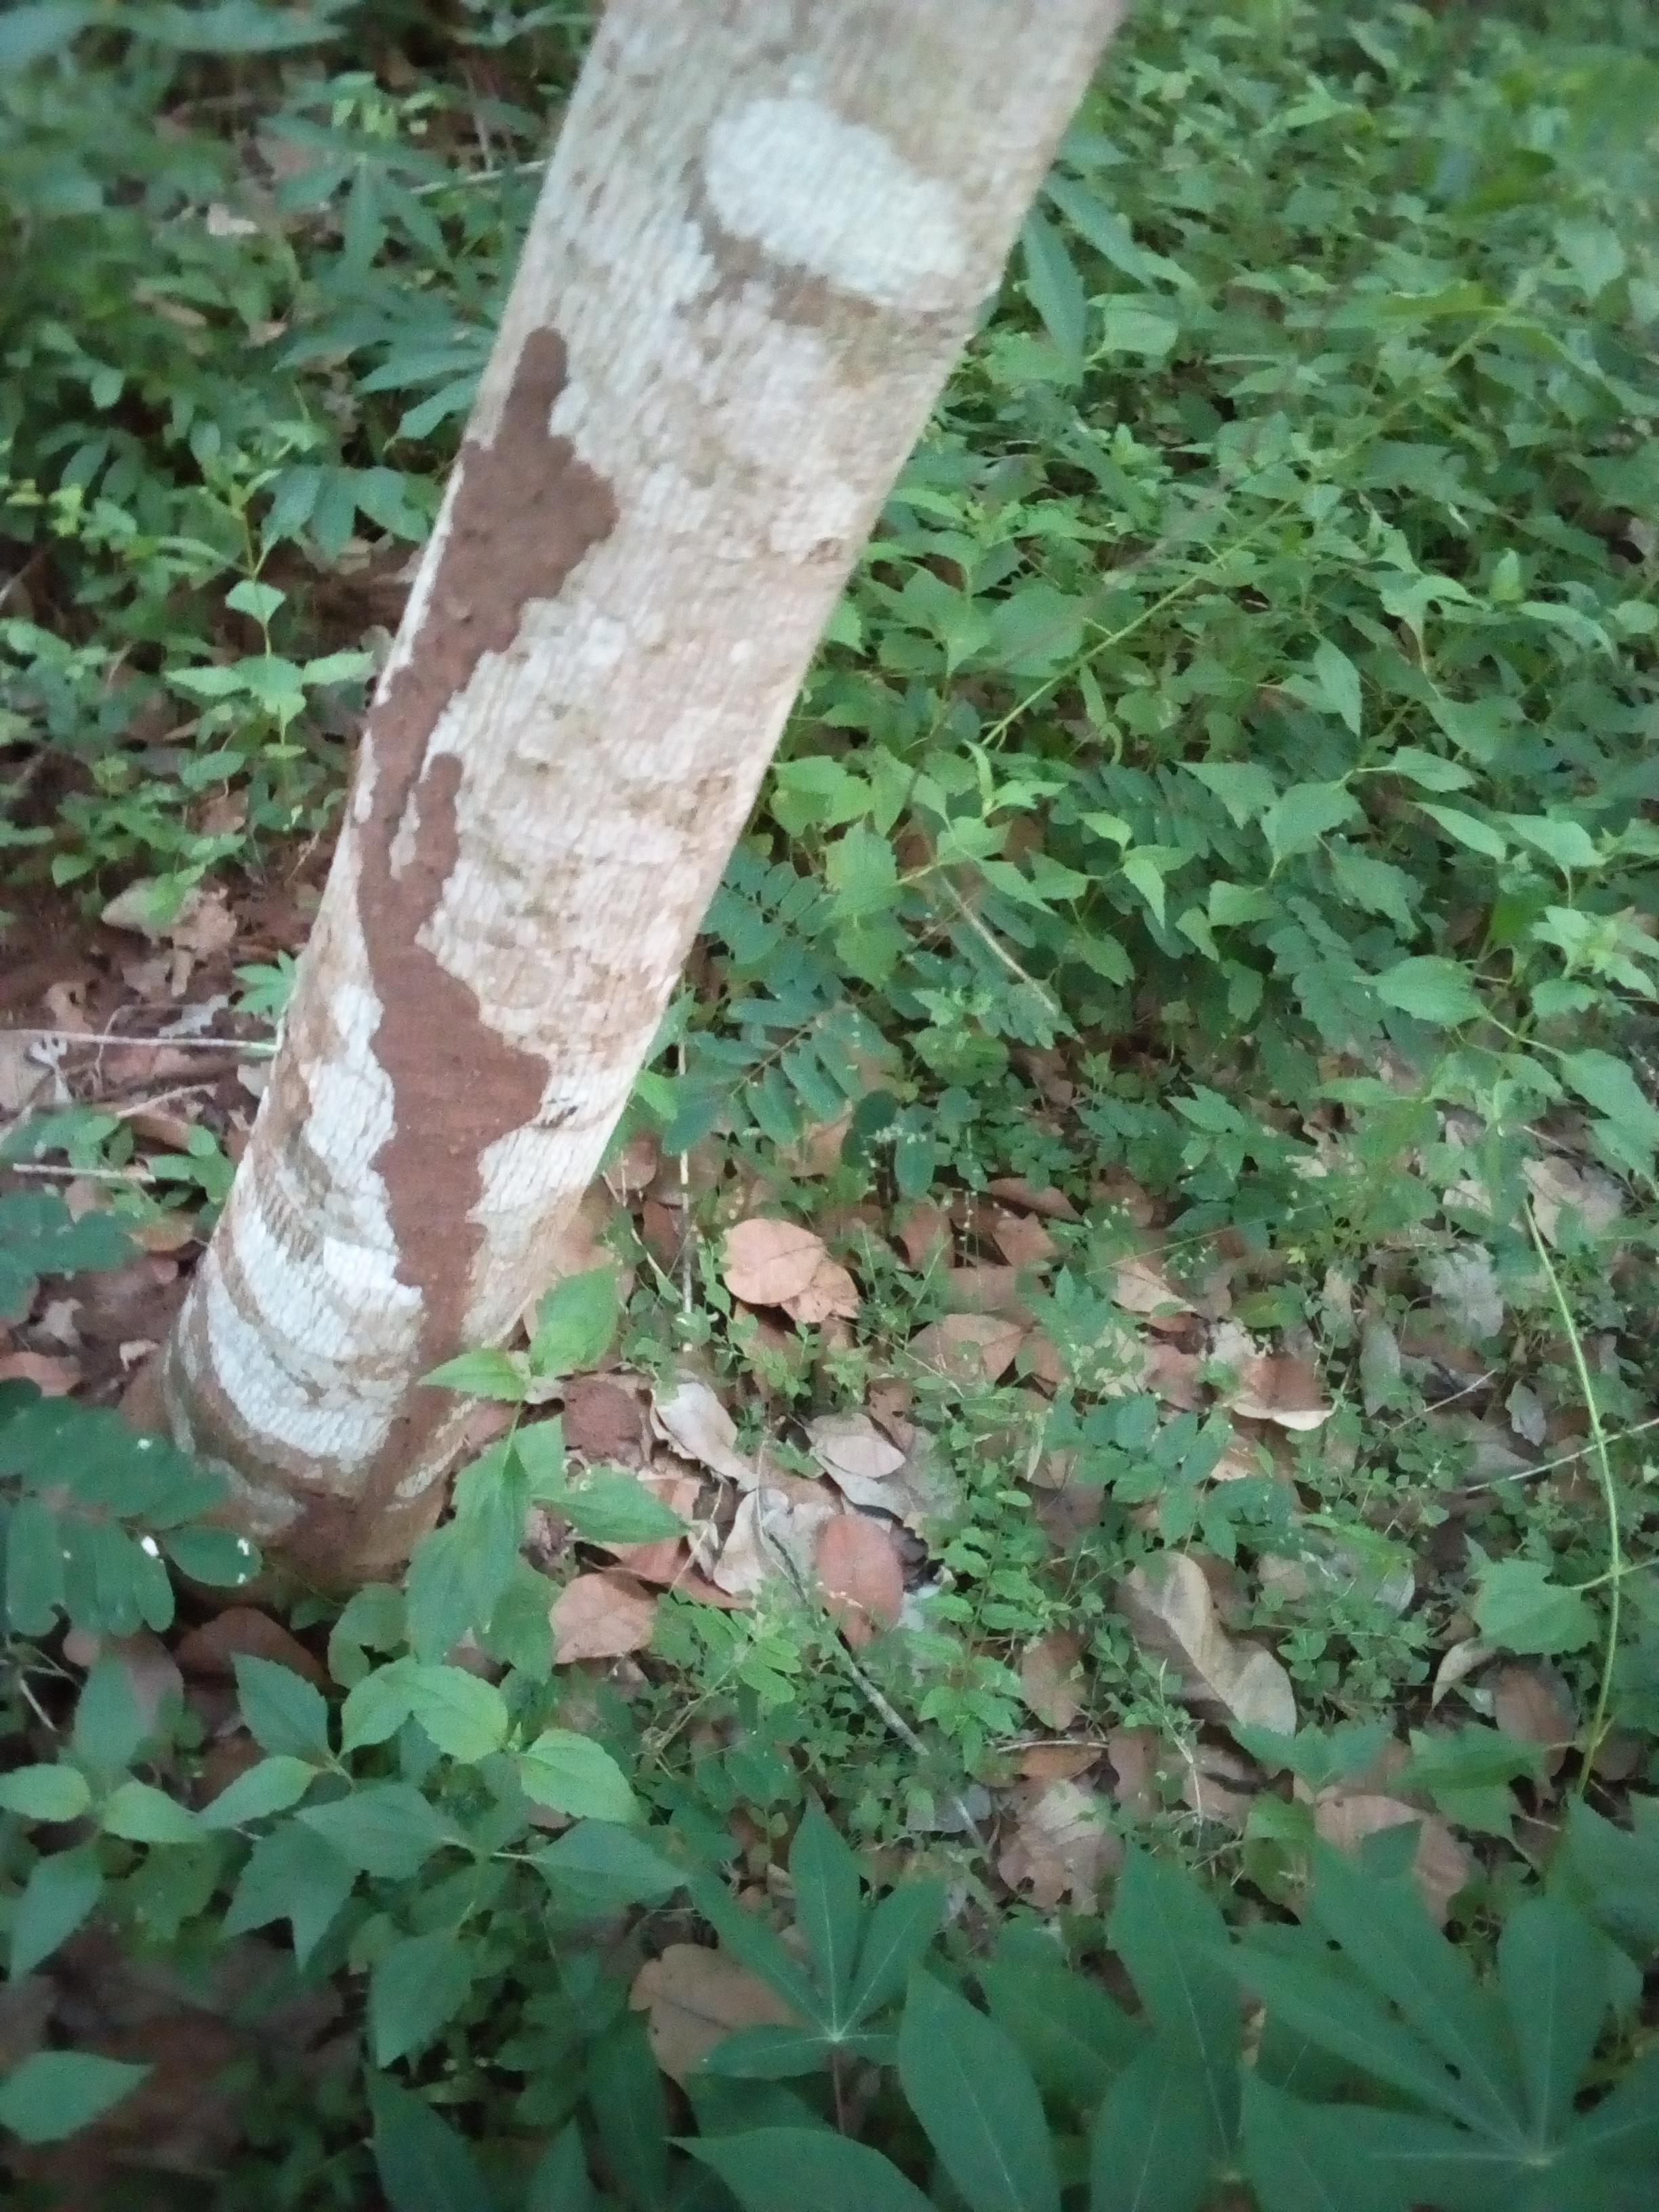Termites: (399, 343, 606, 883), (373, 941, 511, 1435)
